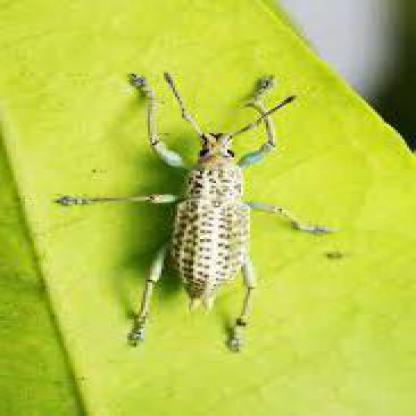ash weevil: (69, 73, 317, 344)
